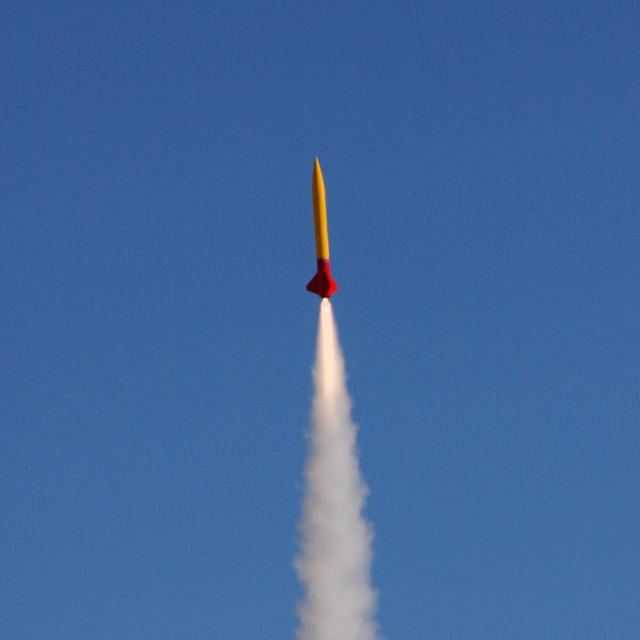Rocket: (305, 155, 340, 300)
